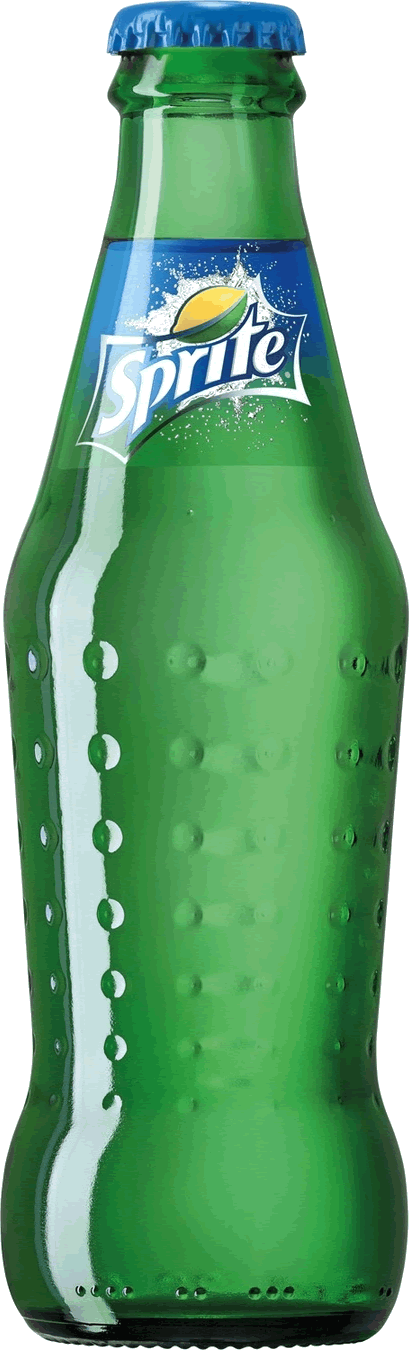sprite_bottle: (1, 2, 409, 1344)
